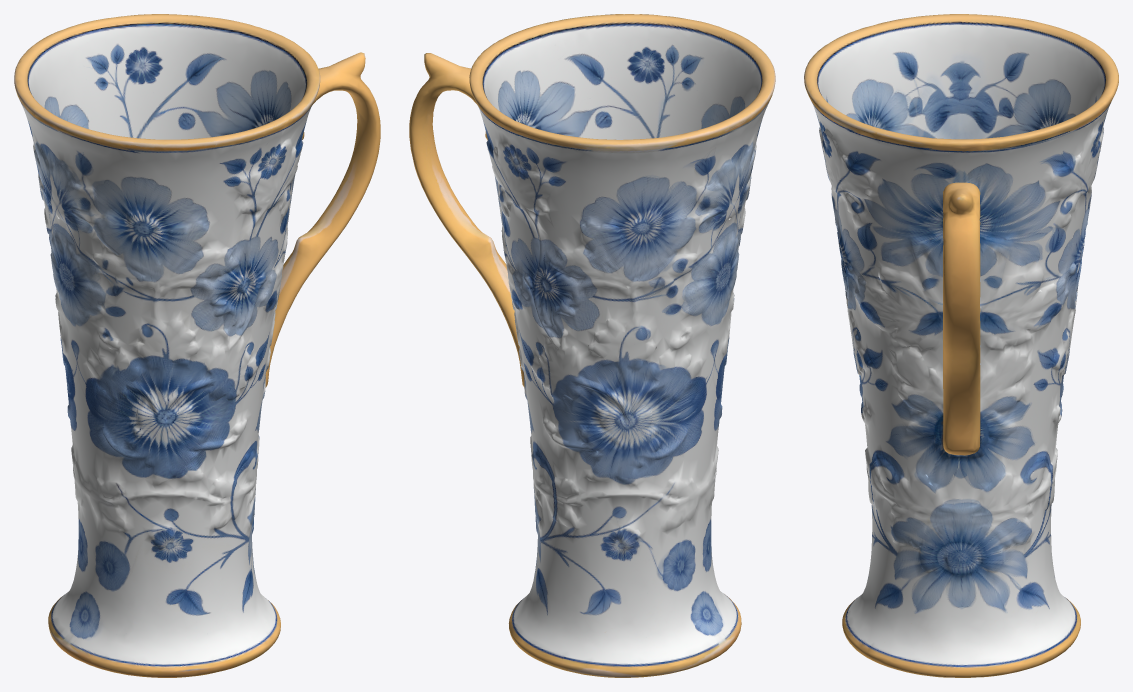
File: cousin_1.glb
The picture shows the model from 3 angles, left to right: view 1: azimuth 30°, elevation 25°; view 2: azimuth 150°, elevation 25°; view 3: azimuth 270°, elevation 25°; orthographic projection.
Bounding box in the file's own units: 1.23 × 1.91 × 0.9779.
Materials: 1 (1 with a texture image).
